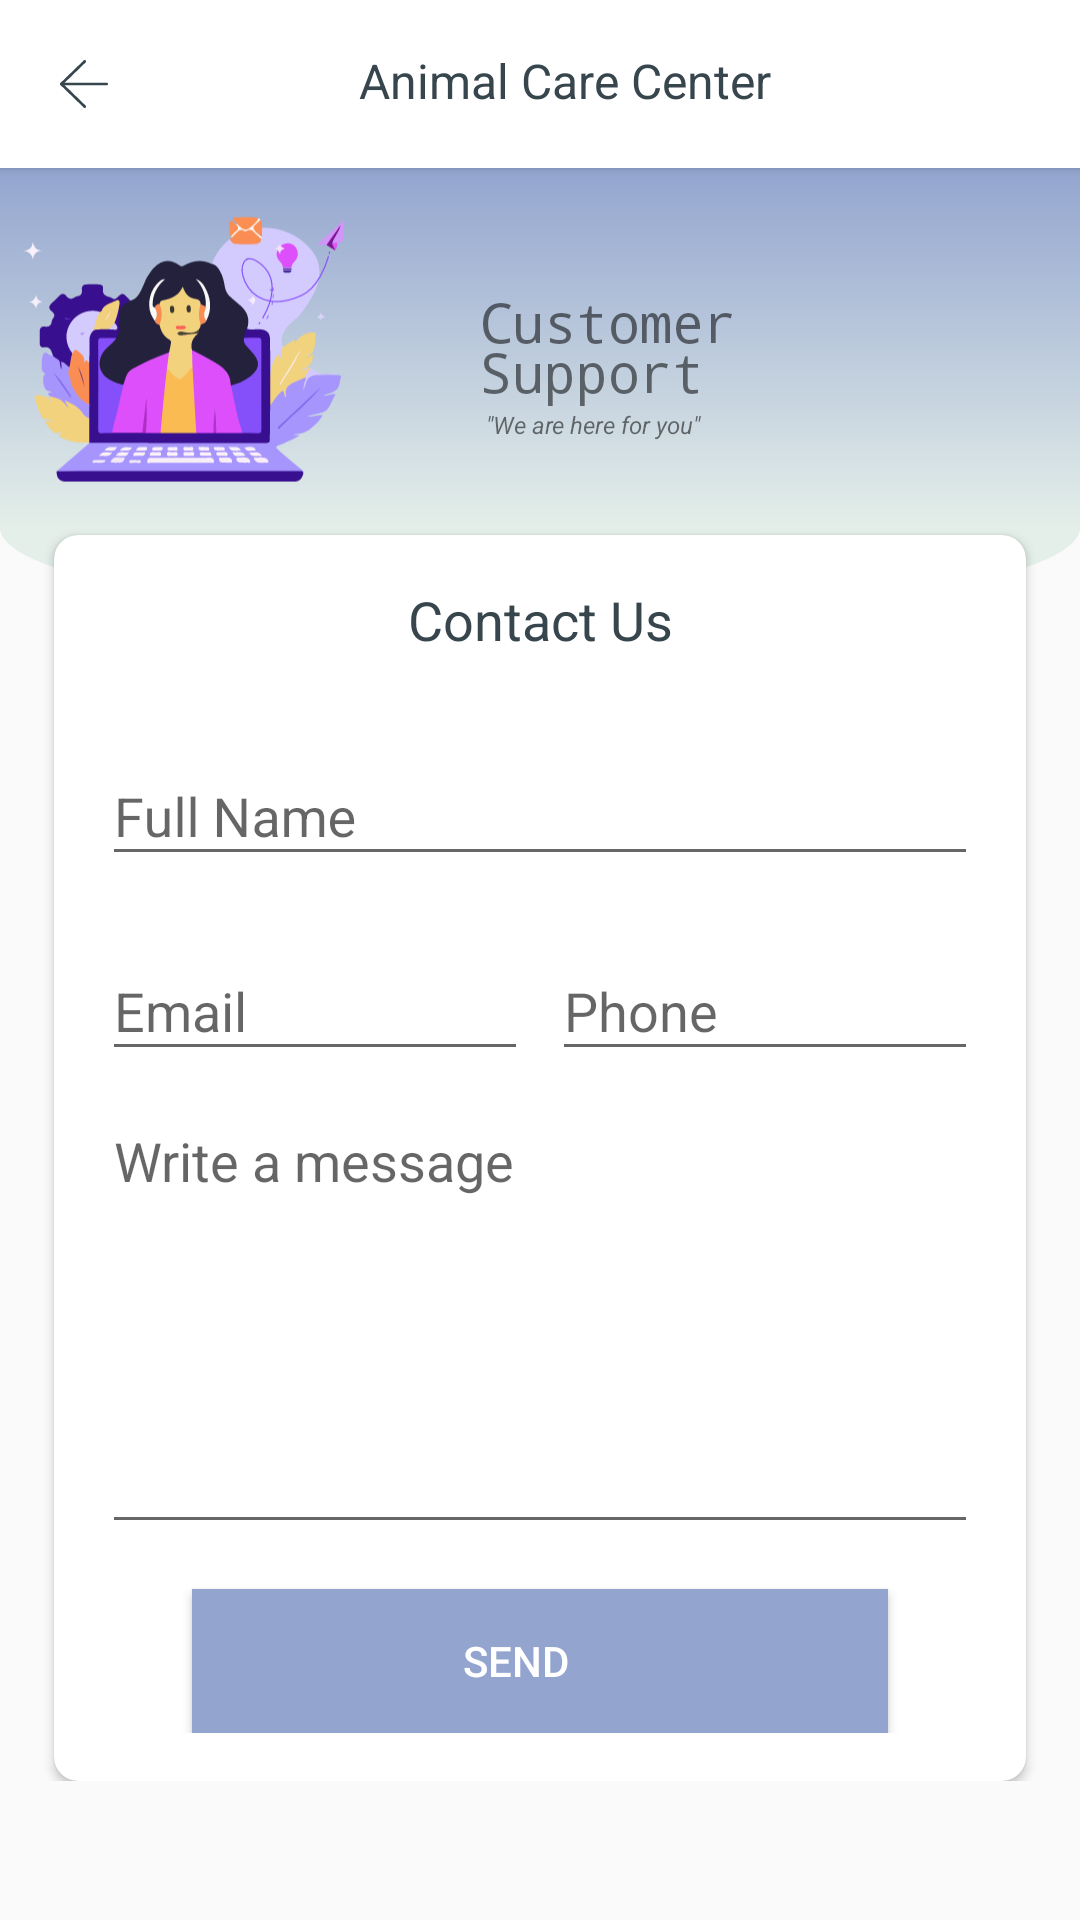

Icon click points for this 1080w x 1920h phone screenshot, format point (x, y):
left arrow: point (84, 84)
